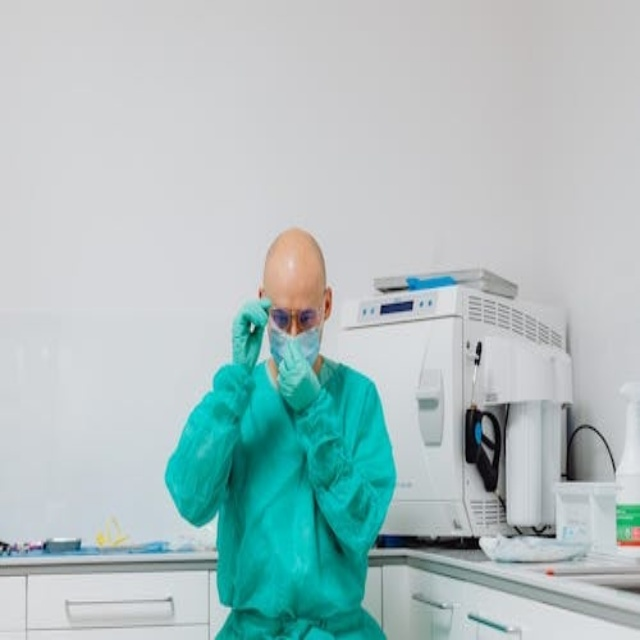Gafas: (266, 296, 327, 333)
Guantes: (273, 340, 329, 413), (224, 290, 269, 373)
Mascara: (267, 315, 323, 377)
